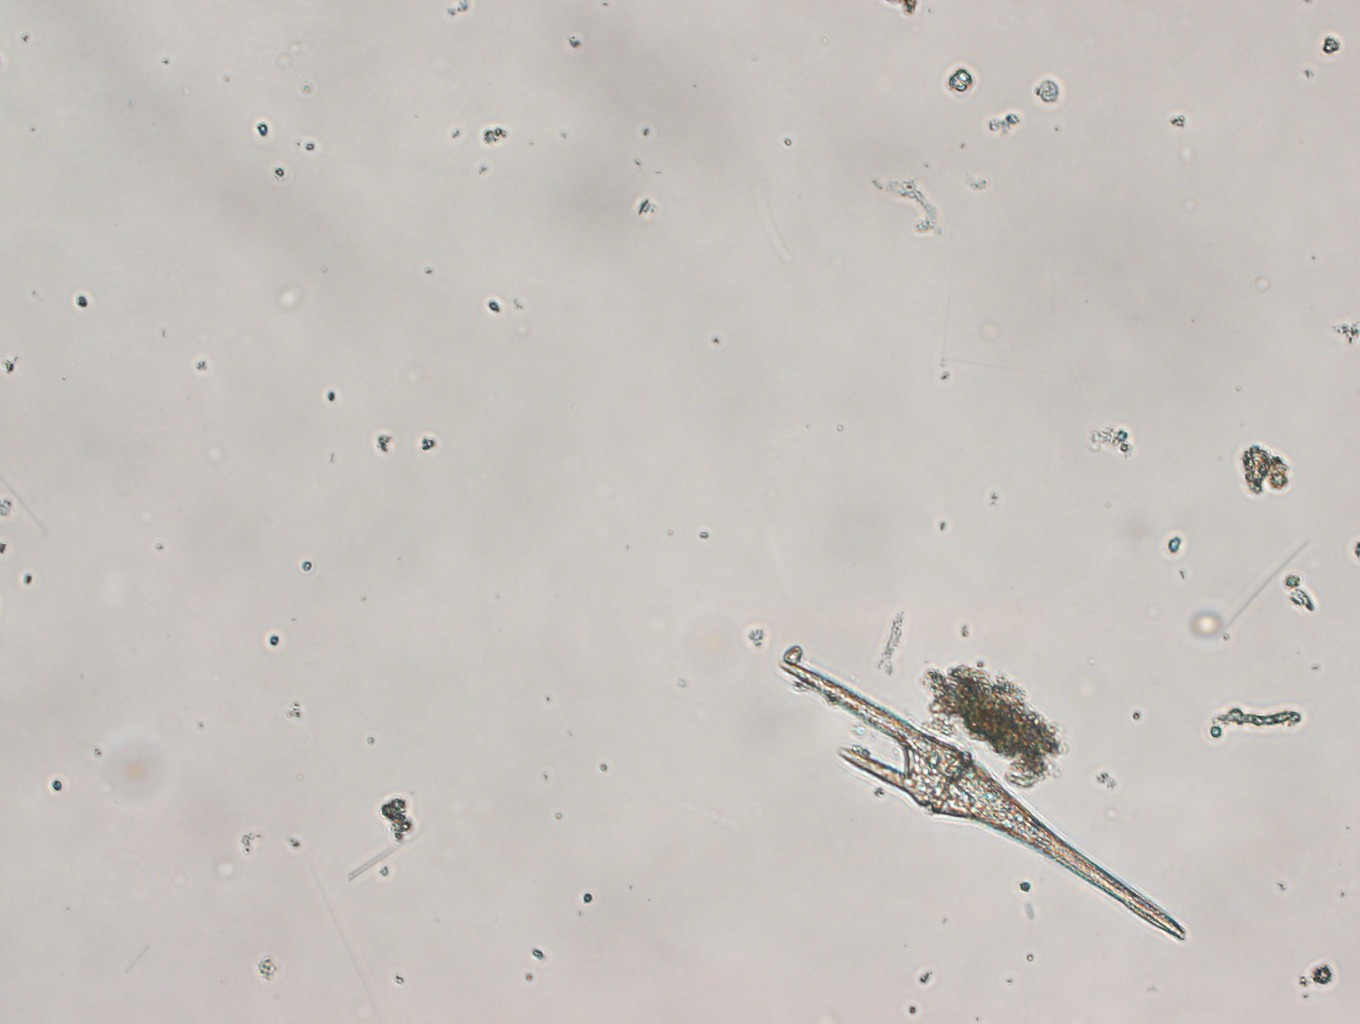ceratium furca: (774, 658, 1189, 943)
